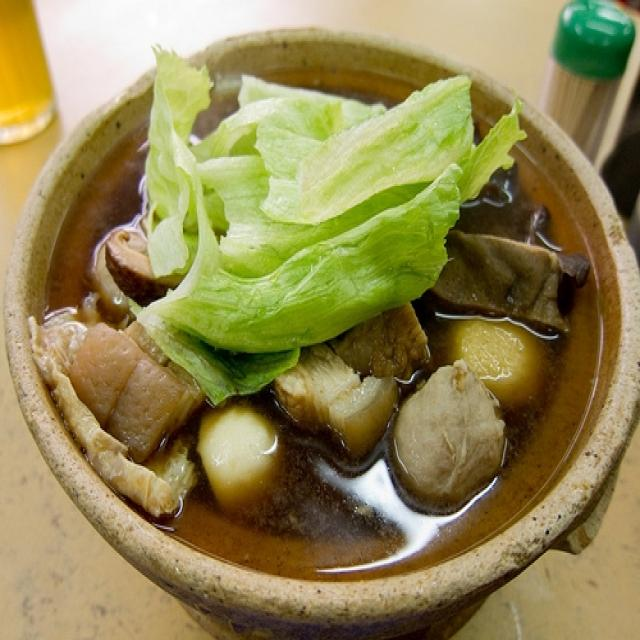汤锅炖物: (18, 40, 612, 598)
